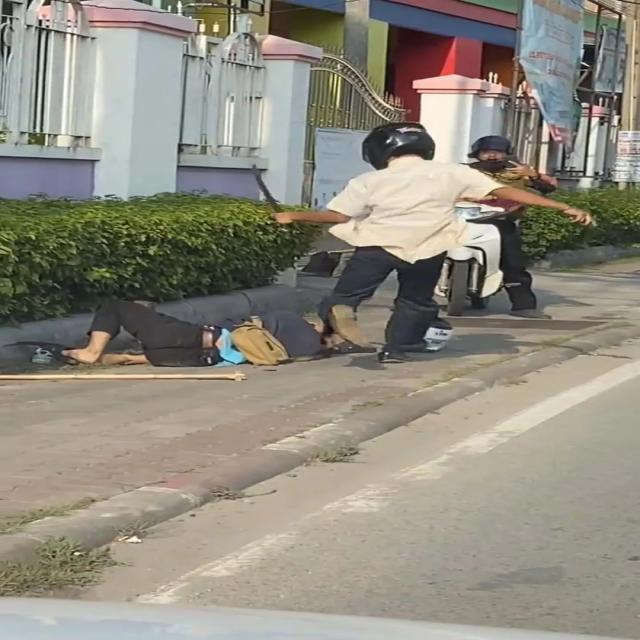helmet: (358, 120, 440, 168)
